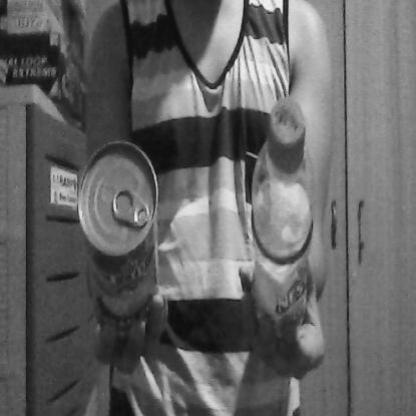Plastic Bottle: (241, 84, 324, 353)
